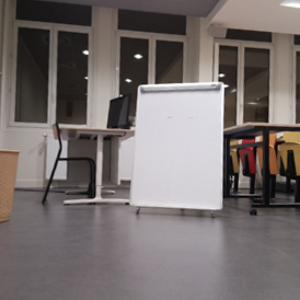big: (129, 82, 226, 216)
medium: (1, 150, 20, 227)
